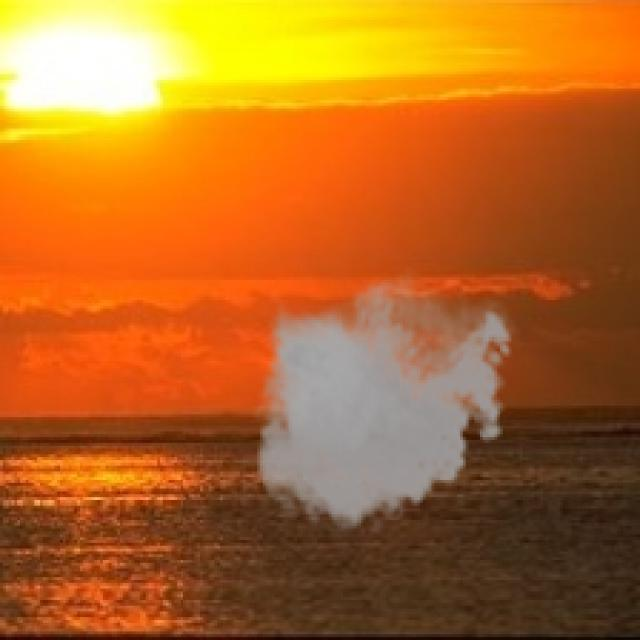smoke: (246, 266, 520, 540)
